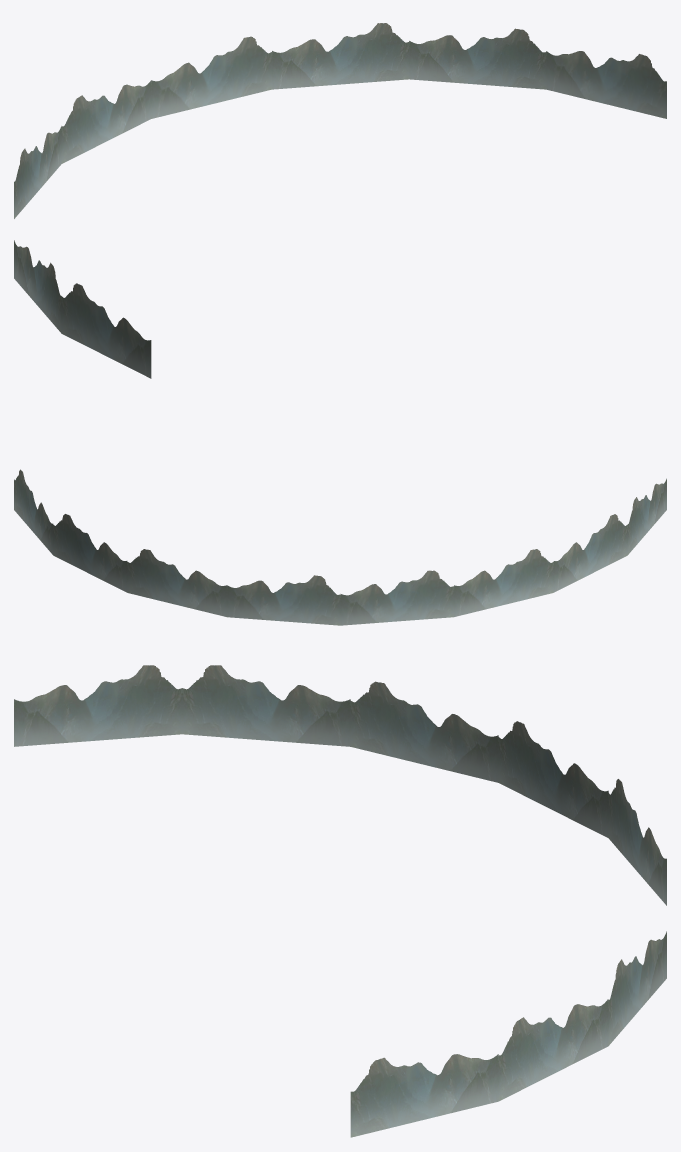
Rendered from xibuhuangye_yuanjing_01.FBX.
3 views of the same model, one above another, from view 1: azimuth 30°, elevation 25°; view 2: azimuth 150°, elevation 25°; view 3: azimuth 270°, elevation 25° (orthographic). The views are drawn at different scales.
Parts seen in each view (by area): view 1: xibuhuangye_yuanjing_01; view 2: xibuhuangye_yuanjing_01; view 3: xibuhuangye_yuanjing_01.
Boxes of the visible parts, x1=… form: xibuhuangye_yuanjing_01: x1=14, y1=23, x2=666, y2=378; xibuhuangye_yuanjing_01: x1=14, y1=469, x2=666, y2=625; xibuhuangye_yuanjing_01: x1=14, y1=665, x2=666, y2=1137.
Bounding box in the file's own units: 9063 × 839 × 6199.
